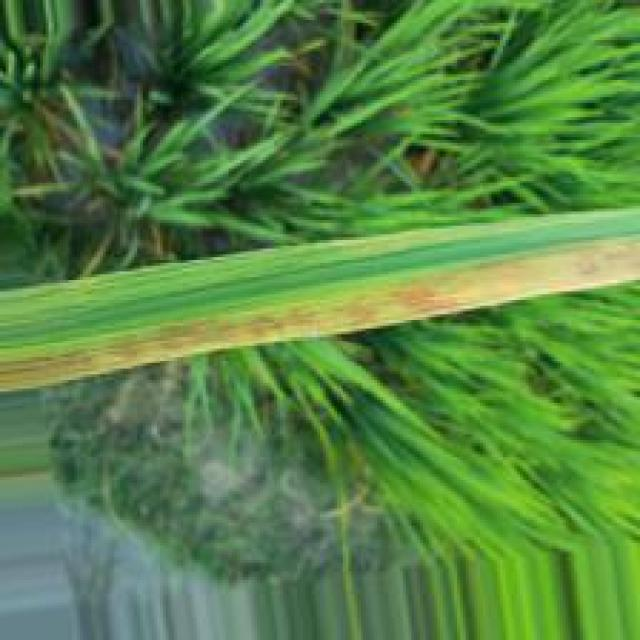Bacterial_Leaf_Blight: (2, 243, 640, 394)
